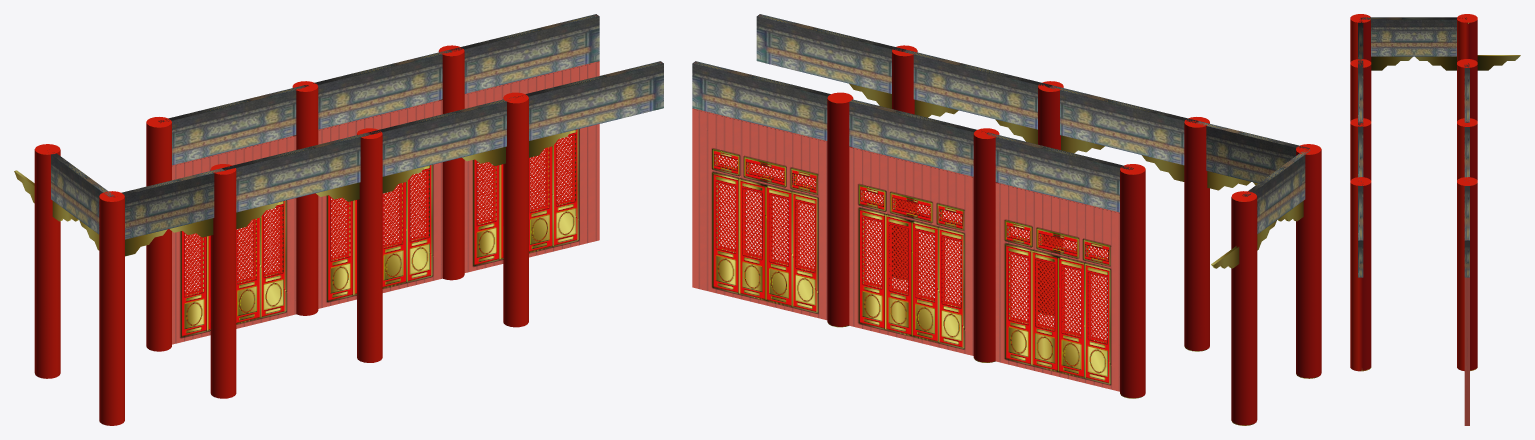
File: cornerwallwallwall.dae
The picture shows the model from 3 angles, left to right: view 1: azimuth 30°, elevation 25°; view 2: azimuth 150°, elevation 25°; view 3: azimuth 270°, elevation 25°; orthographic projection. The views are drawn at different scales.
Parts seen in each view (by area): view 1: MainNode; view 2: MainNode; view 3: MainNode.
Part boxes in pixels (box(x1,y1,x2,y2)): MainNode: box(14, 14, 663, 425); MainNode: box(692, 14, 1321, 425); MainNode: box(1350, 14, 1520, 425).
Bounding box in the file's own units: 12.59 × 4.8 × 4.
1 material, 1 textured.
